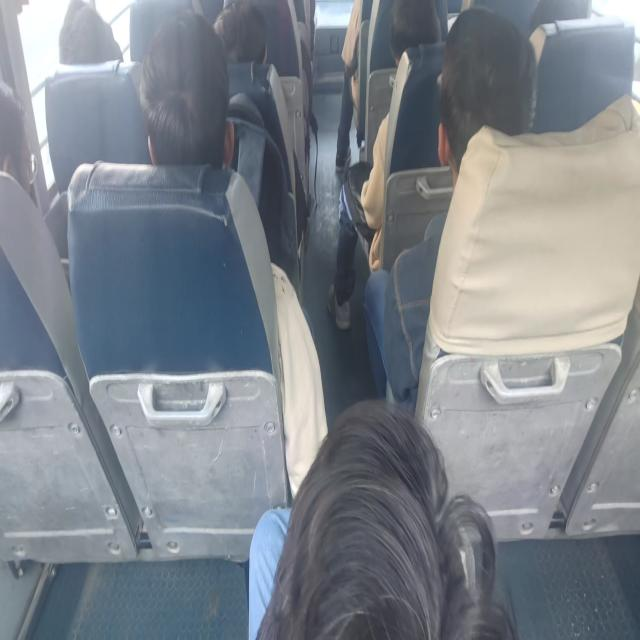person: (138, 9, 328, 498), (363, 6, 538, 410), (248, 397, 516, 638), (327, 0, 442, 330), (138, 9, 235, 169), (0, 80, 68, 270), (335, 0, 362, 173), (0, 79, 37, 196), (58, 0, 124, 65), (212, 1, 268, 64)
